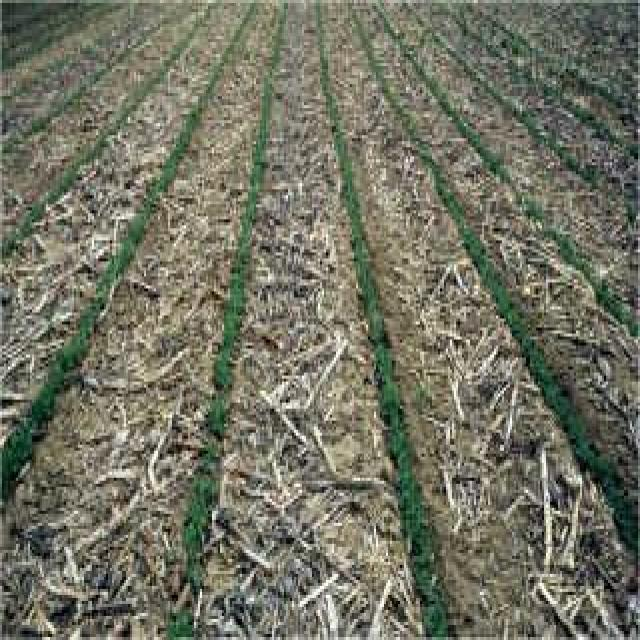row: (325, 0, 640, 640), (0, 0, 283, 636), (198, 1, 423, 640), (357, 0, 639, 504), (1, 2, 251, 446), (375, 0, 640, 316), (0, 4, 209, 245), (418, 1, 640, 202), (450, 3, 640, 148), (0, 0, 184, 145), (481, 1, 640, 95)
